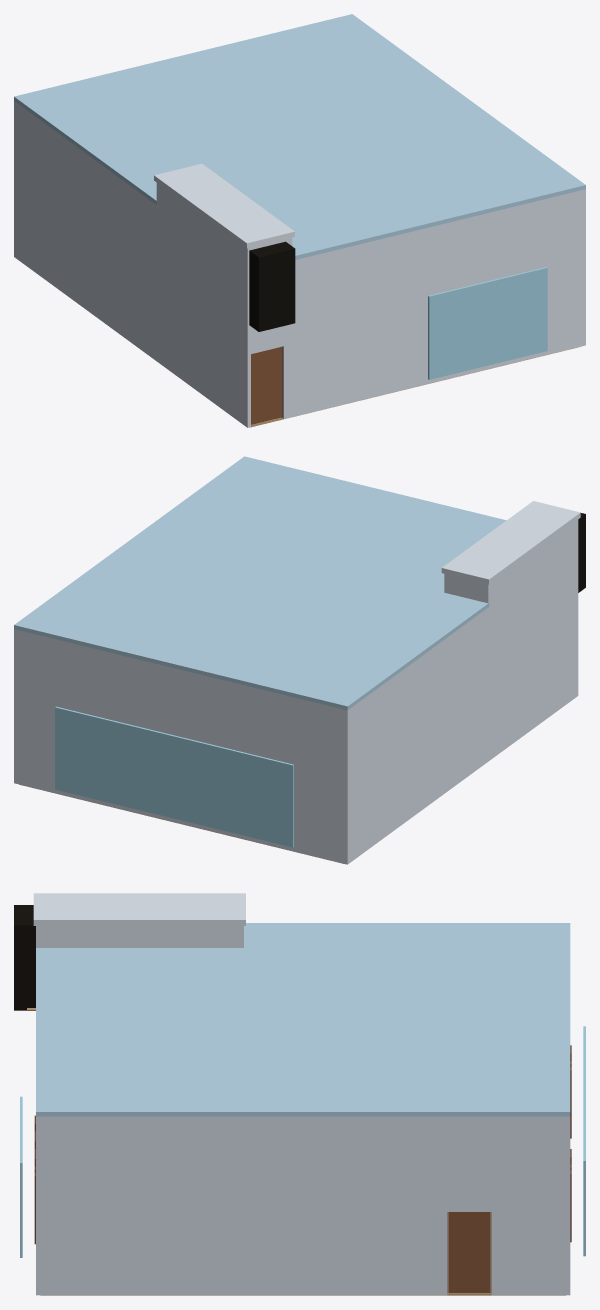
File: room_bed2.glb
3 views of the same model, one above another, from view 1: azimuth 30°, elevation 25°; view 2: azimuth 150°, elevation 25°; view 3: azimuth 270°, elevation 25° (orthographic). The views are drawn at different scales.
Parts seen in each view (by area): view 1: CEILING, WALLS, SHAFT, VIEW_window, STAIRWELL, DOOR_stairs_down; view 2: CEILING, WALLS, VIEW_window_s, SHAFT, STAIRWELL; view 3: CEILING, WALLS, SHAFT, DOOR_corridor, STAIRWELL, FRAMES, VIEW_window_s, FLOOR_visible.
Part boxes in pixels (bbox=[...]): CEILING: bbox=[14, 14, 585, 259]; WALLS: bbox=[14, 101, 585, 427]; SHAFT: bbox=[154, 163, 294, 323]; VIEW_window: bbox=[428, 267, 547, 379]; STAIRWELL: bbox=[249, 241, 295, 331]; DOOR_stairs_down: bbox=[251, 346, 281, 424]; CEILING: bbox=[14, 456, 506, 710]; WALLS: bbox=[14, 593, 578, 864]; VIEW_window_s: bbox=[55, 706, 293, 847]; SHAFT: bbox=[441, 501, 580, 658]; STAIRWELL: bbox=[578, 513, 585, 592]; CEILING: bbox=[36, 923, 570, 1116]; WALLS: bbox=[36, 1116, 570, 1295]; SHAFT: bbox=[33, 893, 245, 947]; DOOR_corridor: bbox=[448, 1212, 490, 1292]; STAIRWELL: bbox=[14, 905, 35, 1010]; FRAMES: bbox=[34, 1045, 571, 1293]; VIEW_window_s: bbox=[583, 1026, 585, 1256]; FLOOR_visible: bbox=[40, 1292, 565, 1295].
Bounding box in the file's own units: 10.25 × 5.41 × 13.06.
